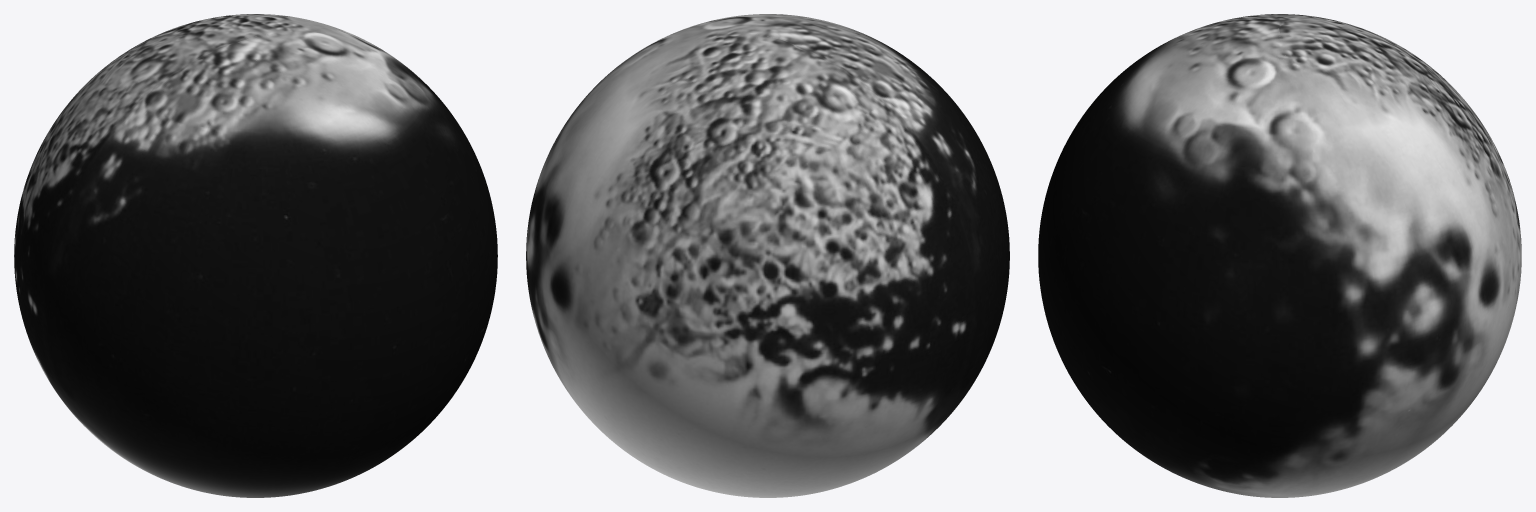
Rendered from iapetus.glb.
3 views of the same model, side by side, from view 1: azimuth 30°, elevation 25°; view 2: azimuth 150°, elevation 25°; view 3: azimuth 270°, elevation 25° (orthographic).
Visible parts, largest first — view 1: Iapetus_Asset; view 2: Iapetus_Asset; view 3: Iapetus_Asset.
Part boxes in pixels (x1=…): Iapetus_Asset: x1=14, y1=14, x2=497, y2=497; Iapetus_Asset: x1=526, y1=14, x2=1009, y2=497; Iapetus_Asset: x1=1038, y1=14, x2=1521, y2=497.
Size of the model in its own units: 0.3994 by 0.4 by 0.3994.
1 material, 1 textured.
